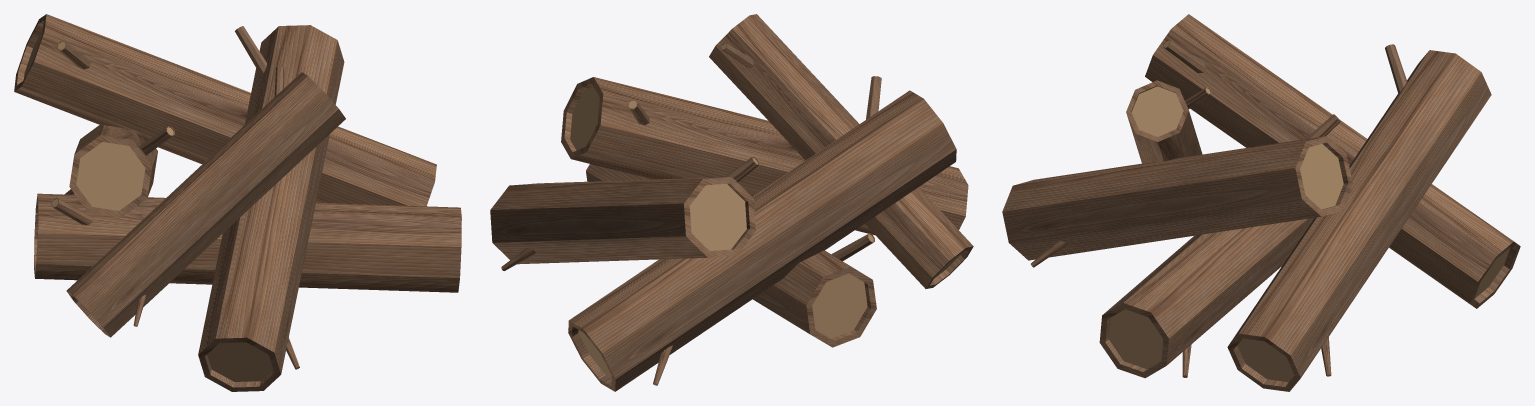
File: CampfireSticks.fbx
3 views of the same model, side by side, from view 1: azimuth 30°, elevation 25°; view 2: azimuth 150°, elevation 25°; view 3: azimuth 270°, elevation 25° (orthographic). The views are drawn at different scales.
Visible parts, largest first — view 1: Cylinder.005; view 2: Cylinder.005; view 3: Cylinder.005.
Boxes of the visible parts, bbox=[...] form: Cylinder.005: bbox=[14, 14, 461, 391]; Cylinder.005: bbox=[490, 14, 973, 391]; Cylinder.005: bbox=[1002, 14, 1520, 391].
Size of the model in its own units: 303 by 169 by 336.
20 materials, 5 textured.
